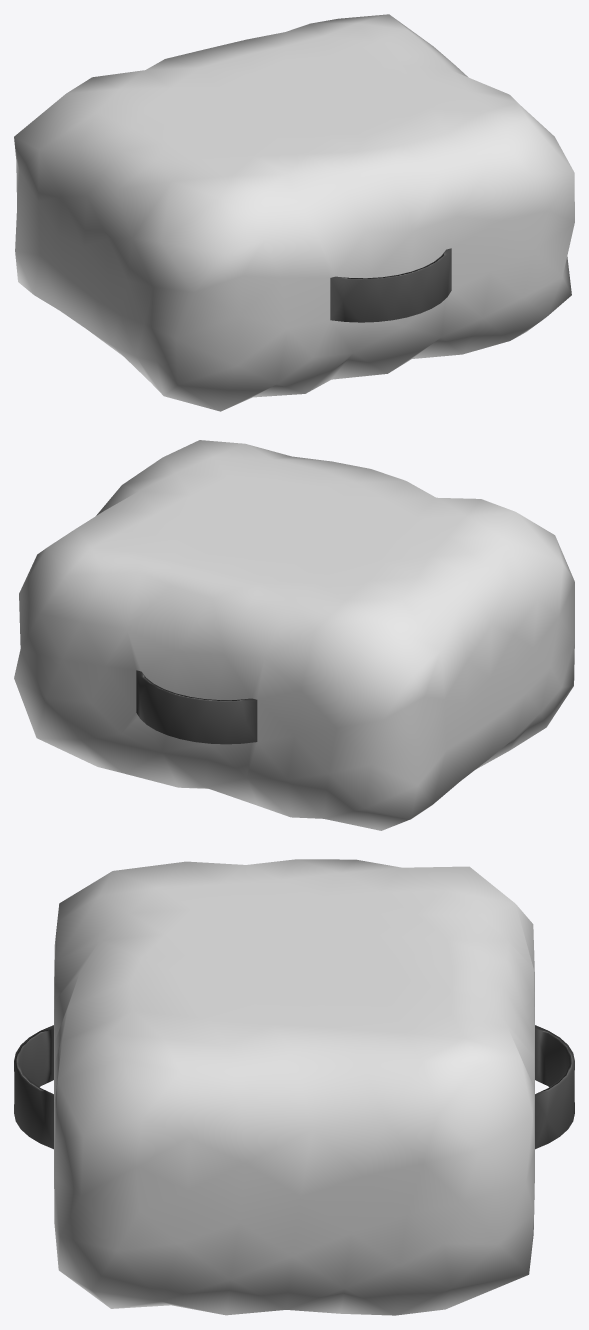
The model's file is top_bottom_handle.obj.
The picture shows the model from 3 angles, top to bottom: view 1: azimuth 30°, elevation 25°; view 2: azimuth 150°, elevation 25°; view 3: azimuth 270°, elevation 25°; orthographic projection. The views are drawn at different scales.
Visible parts, largest first — view 1: top_bottom_handle; view 2: top_bottom_handle; view 3: top_bottom_handle.
Part boxes in pixels (x1=…): top_bottom_handle: x1=14, y1=14, x2=574, y2=411; top_bottom_handle: x1=14, y1=440, x2=574, y2=830; top_bottom_handle: x1=14, y1=859, x2=574, y2=1315.
Bounding box in the file's own units: 0.5 × 0.25 × 0.49.
